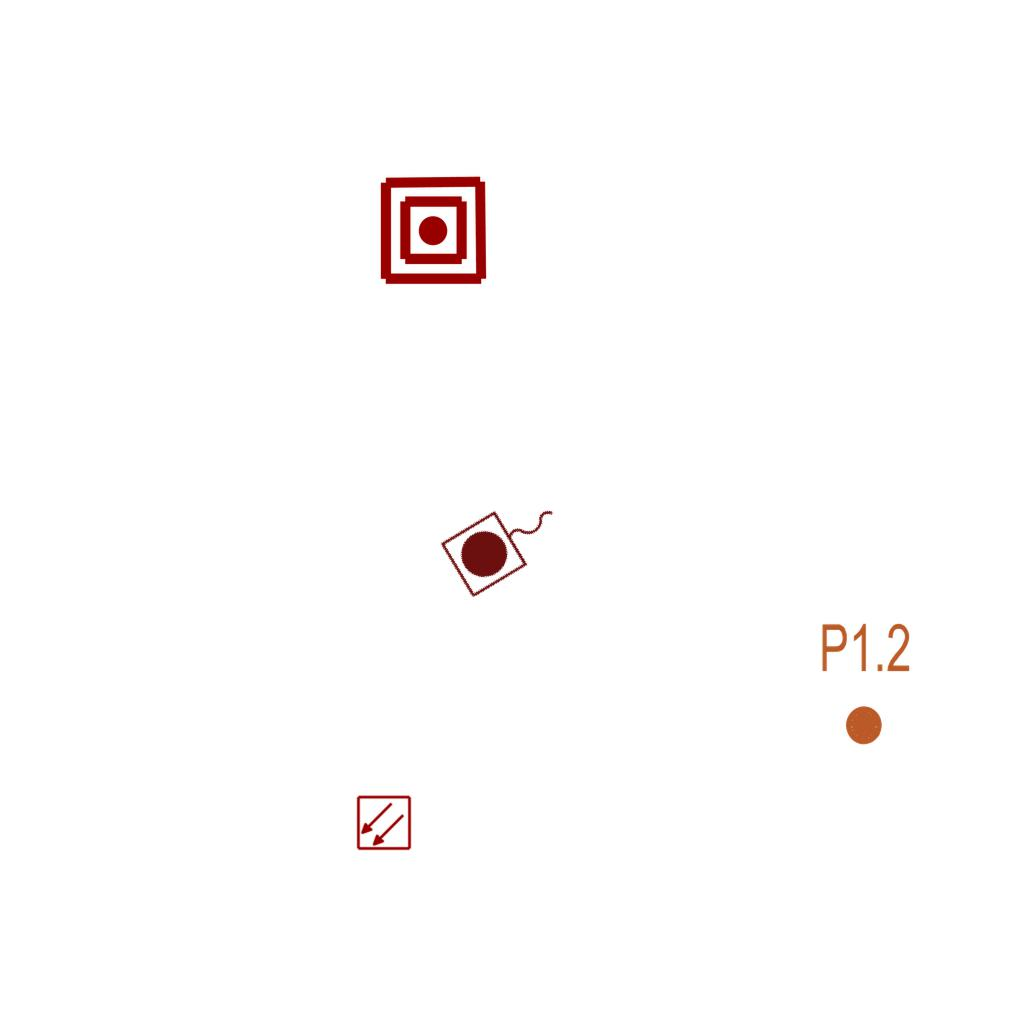Downlight_LED_Einbauleuchten_Flur: (819, 620, 912, 748)
NAM-Nichtautomatischer_Melder: (377, 174, 490, 287)
RMO_Rauchmelder_optischer: (356, 795, 412, 851)
Zugtaster: (435, 479, 577, 605)
